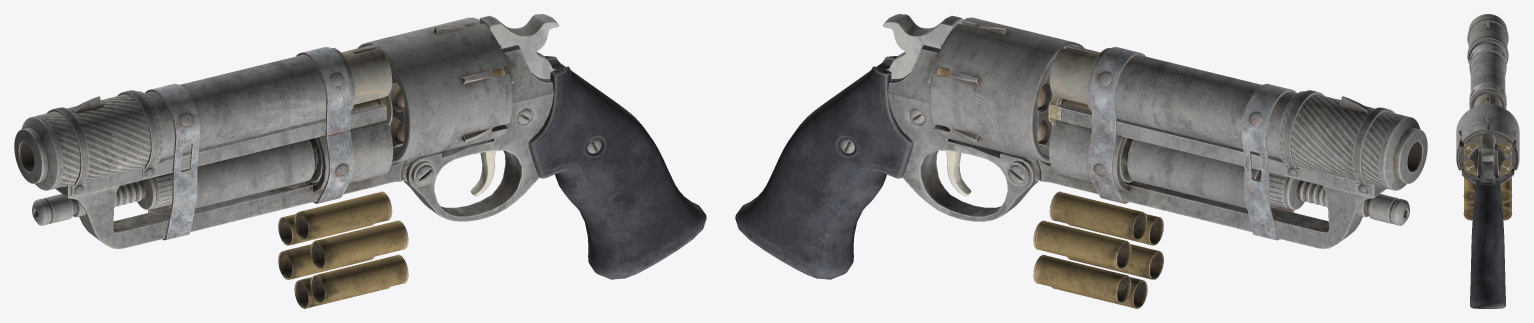
Rendered from revolver_hunger_-_fanart.fbx.
3 renders of one model, left to right at view 1: azimuth 30°, elevation 25°; view 2: azimuth 150°, elevation 25°; view 3: azimuth 270°, elevation 25°, orthographic. The views are drawn at different scales.
Parts seen in each view (by area): view 1: obj27, obj10, obj17, obj13, obj1, obj5, obj9, obj26, obj3, obj20, obj6, obj2 (+4 smaller); view 2: obj27, obj10, obj17, obj13, obj1, obj5, obj9, obj26, obj3, obj20, obj6, obj2 (+4 smaller); view 3: obj27, obj17, obj1, obj5, obj13, obj3, obj20, obj26, obj15, obj2, obj14, obj6 (+3 smaller).
Part boxes in pixels (bbox=[...]): obj27: bbox=[528, 56, 706, 279]; obj10: bbox=[55, 104, 416, 248]; obj17: bbox=[357, 17, 512, 163]; obj13: bbox=[278, 191, 408, 308]; obj1: bbox=[145, 48, 355, 158]; obj5: bbox=[14, 91, 164, 190]; obj9: bbox=[32, 138, 322, 225]; obj26: bbox=[403, 45, 553, 221]; obj3: bbox=[145, 46, 353, 240]; obj20: bbox=[479, 14, 559, 78]; obj6: bbox=[341, 44, 392, 104]; obj2: bbox=[47, 90, 159, 195]; obj27: bbox=[735, 56, 913, 279]; obj10: bbox=[1025, 104, 1386, 248]; obj17: bbox=[929, 17, 1084, 163]; obj13: bbox=[1033, 191, 1163, 308]; obj1: bbox=[1086, 48, 1296, 158]; obj5: bbox=[1277, 91, 1427, 190]; obj9: bbox=[1119, 137, 1409, 225]; obj26: bbox=[888, 45, 1038, 221]; obj3: bbox=[1088, 47, 1296, 240]; obj20: bbox=[882, 14, 962, 78]; obj6: bbox=[1049, 44, 1100, 104]; obj2: bbox=[1282, 90, 1394, 195]; obj27: bbox=[1470, 175, 1505, 308]; obj17: bbox=[1456, 104, 1519, 184]; obj1: bbox=[1470, 42, 1505, 108]; obj5: bbox=[1468, 14, 1507, 104]; obj13: bbox=[1463, 177, 1512, 220]; obj3: bbox=[1469, 44, 1506, 109]; obj20: bbox=[1482, 130, 1493, 182]; obj26: bbox=[1468, 143, 1507, 180]; obj15: bbox=[1463, 129, 1512, 173]; obj2: bbox=[1467, 18, 1508, 63]; obj14: bbox=[1464, 137, 1511, 176]; obj6: bbox=[1474, 94, 1501, 106].
Bounding box in the file's own units: 124906 × 53436 × 19792.
3 materials, 3 textured.
